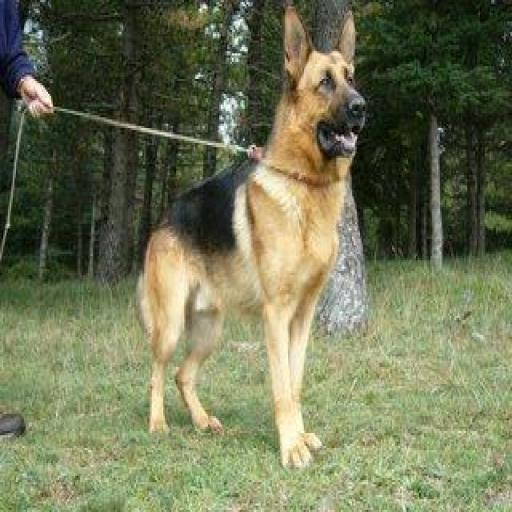dog_face: (278, 3, 370, 170)
